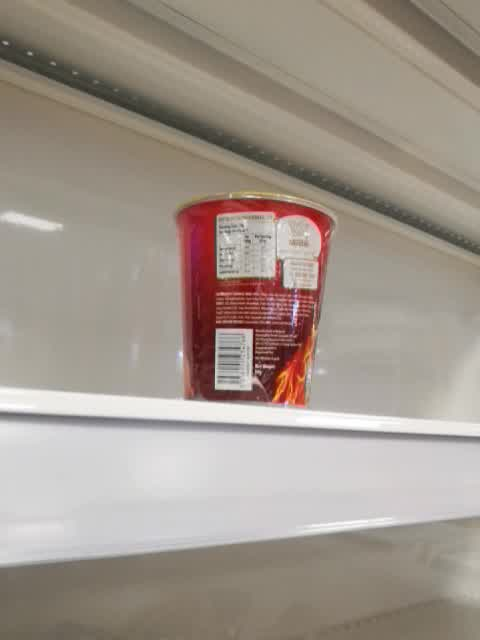maggi: (171, 190, 338, 412)
